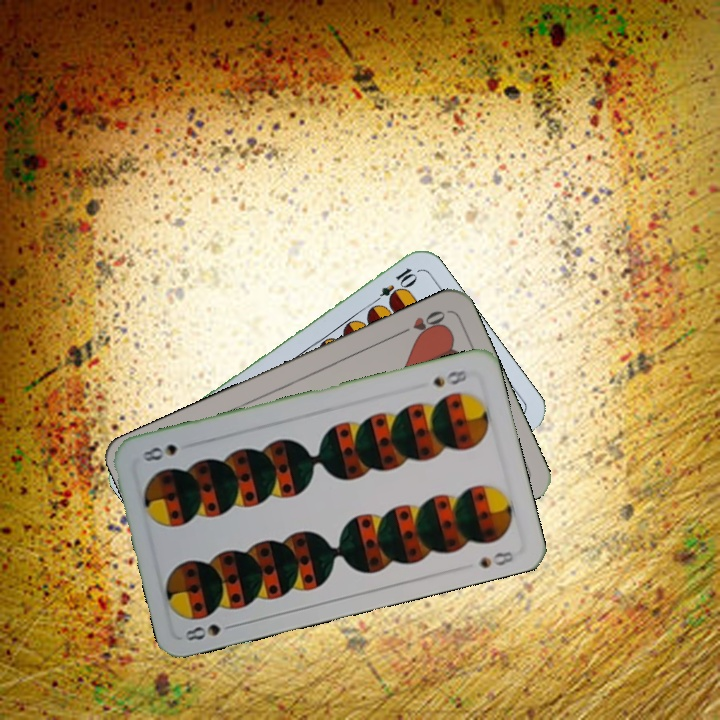E10: (367, 263, 419, 309)
HO: (393, 306, 449, 339)
S8: (180, 619, 239, 644), (429, 366, 476, 390)
